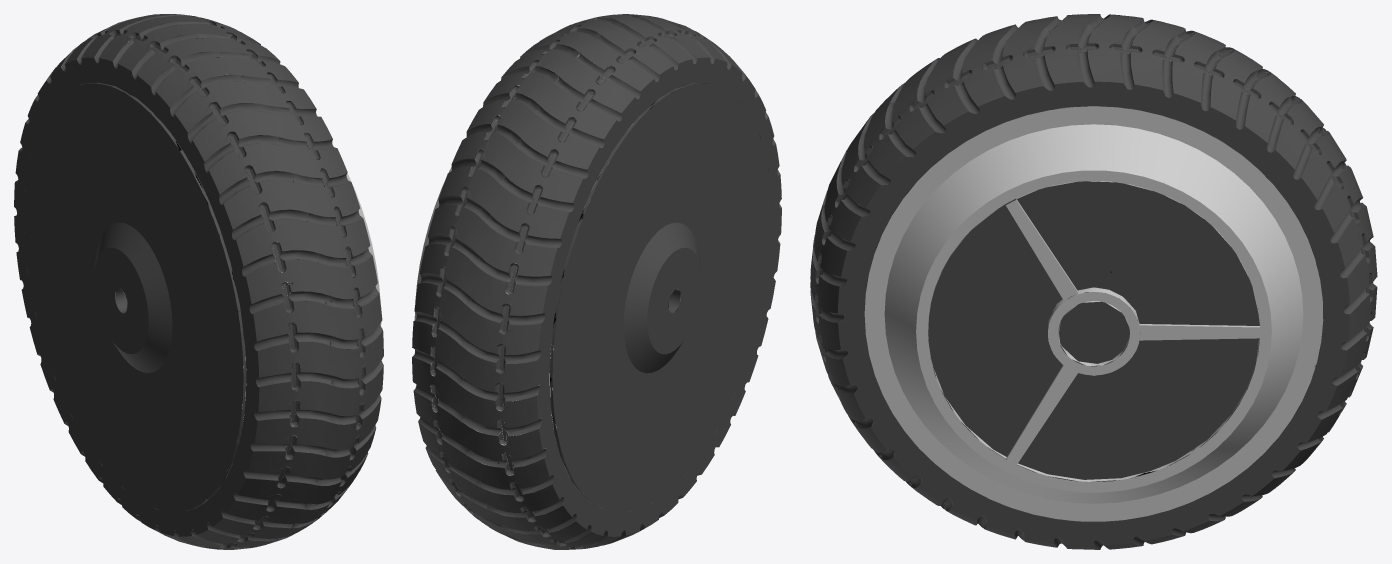
The model's file is main_wheel.dae.
3 views of the same model, side by side, from view 1: azimuth 30°, elevation 25°; view 2: azimuth 150°, elevation 25°; view 3: azimuth 270°, elevation 25° (orthographic). The views are drawn at different scales.
Parts seen in each view (by area): view 1: wheel; view 2: wheel; view 3: wheel.
Boxes of the visible parts, bbox=[...] form: wheel: bbox=[14, 14, 383, 549]; wheel: bbox=[412, 14, 781, 549]; wheel: bbox=[810, 14, 1377, 549].
Bounding box in the file's own units: 0.0643 × 0.169 × 0.169.
Materials: 1 (1 with a texture image).
